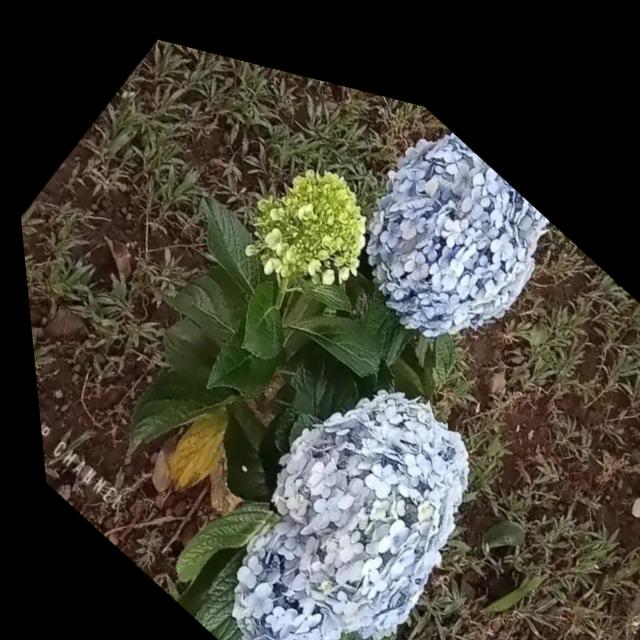Flower: (139, 282, 529, 640), (306, 68, 577, 382), (207, 98, 405, 329)
